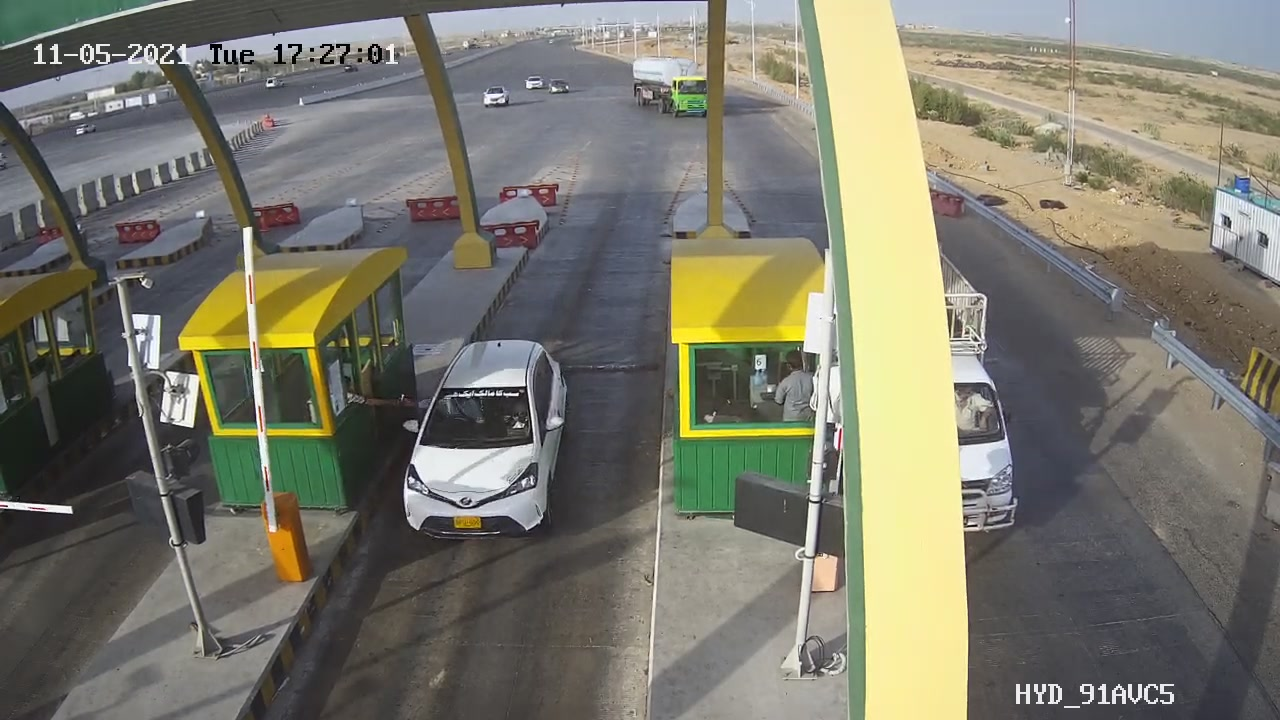F1: (378, 321, 594, 566)
